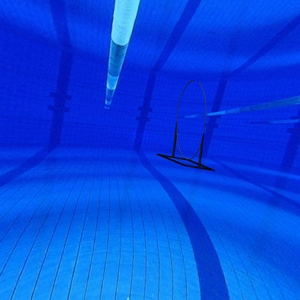circle: (155, 79, 217, 174)
